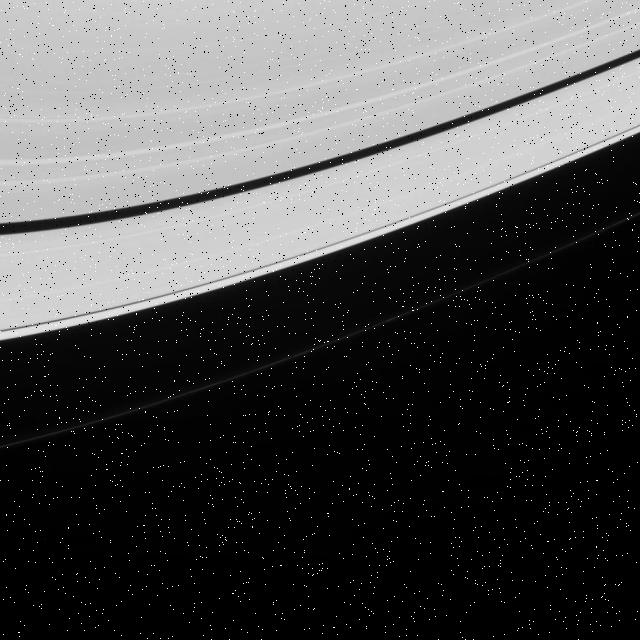Saturn: (0, 0, 640, 462)
